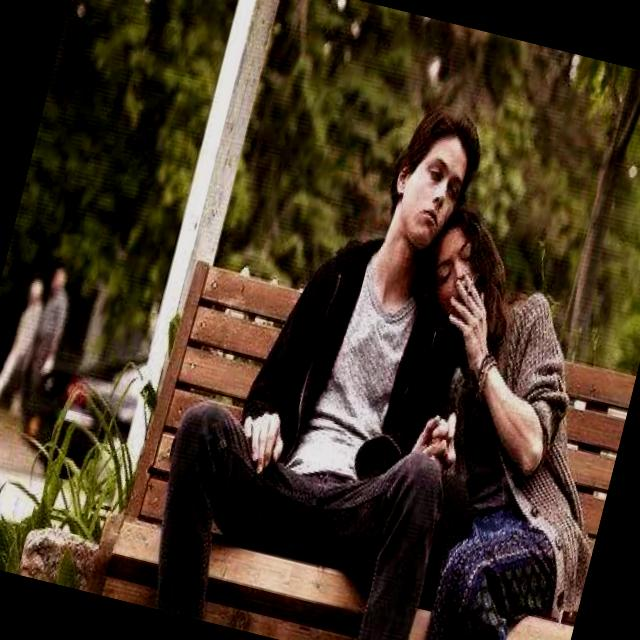smoke: (456, 264, 487, 320)
